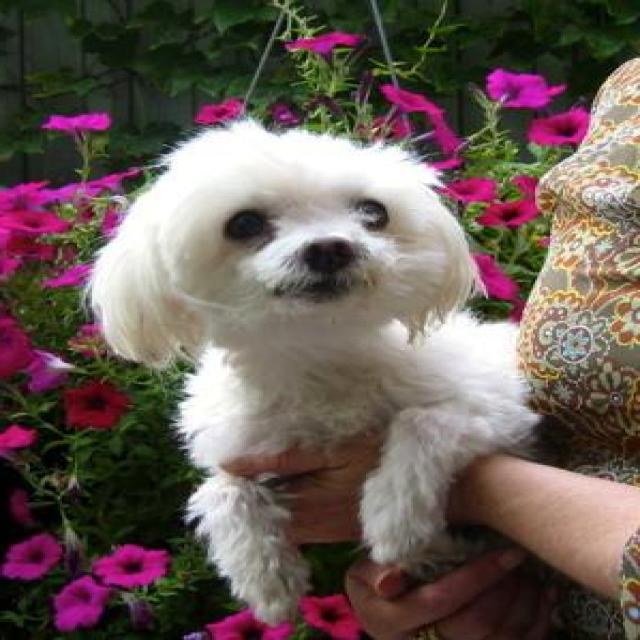maltese_dog: (88, 117, 550, 627)
